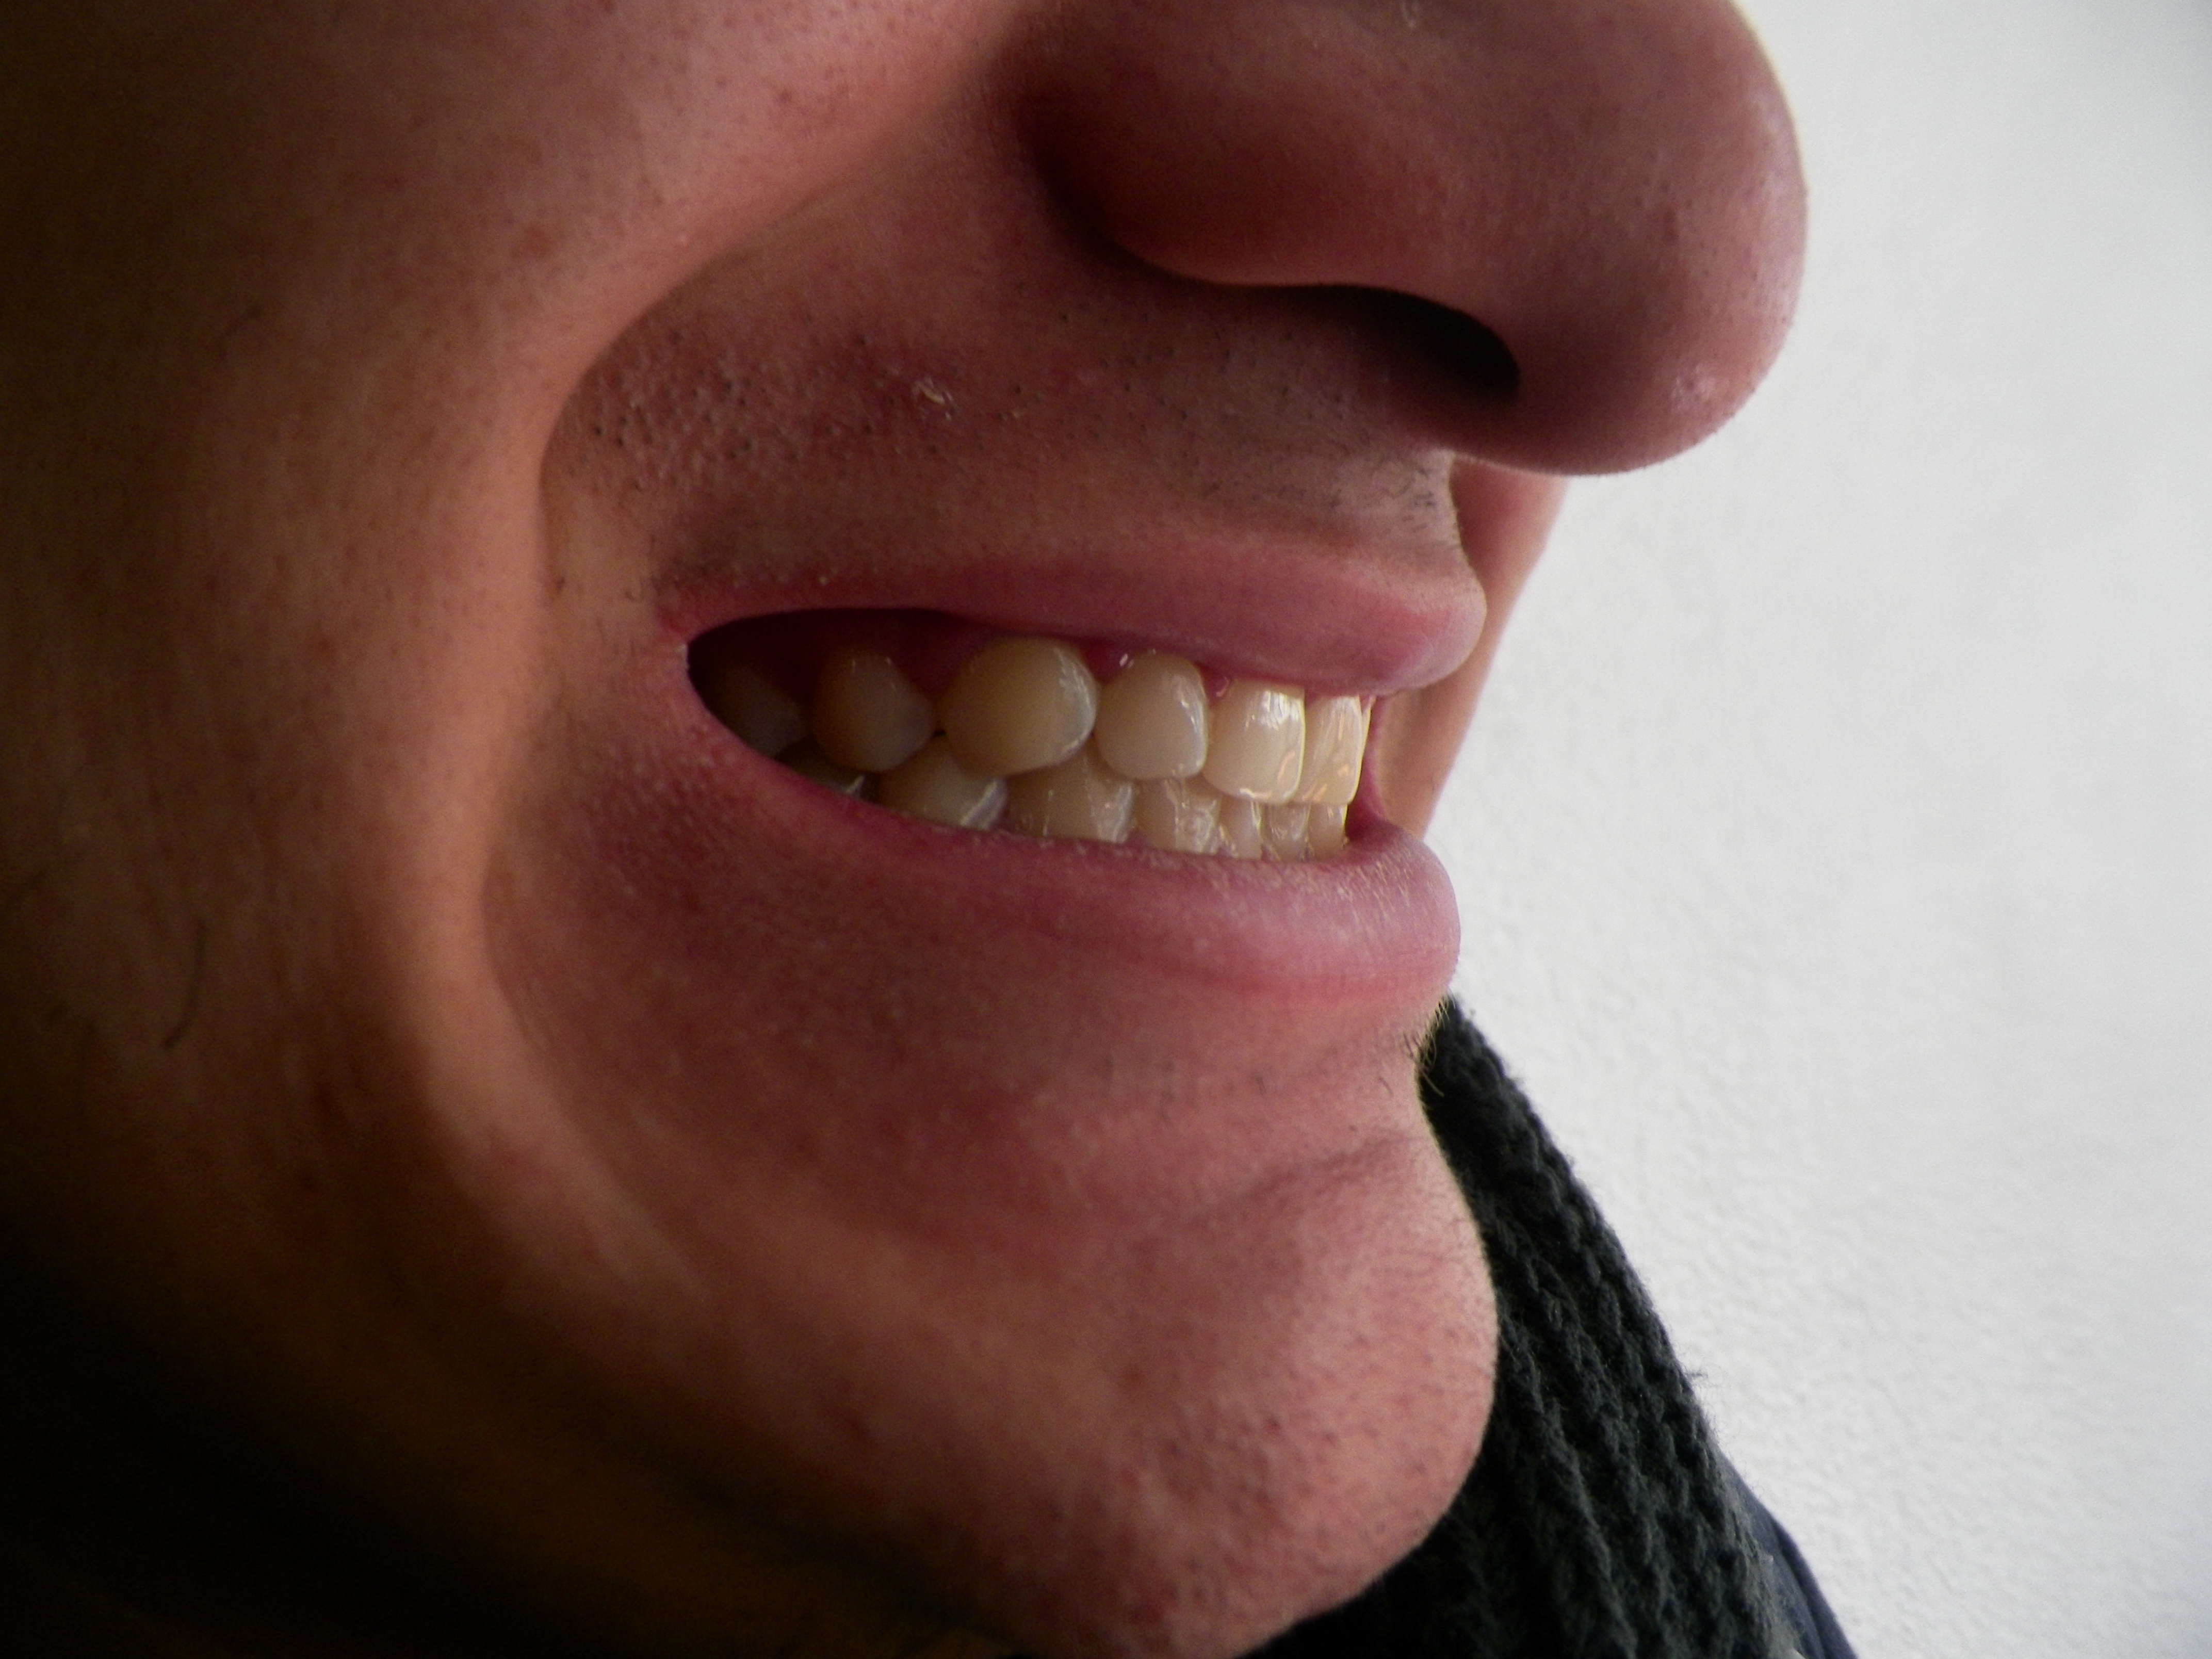dientes: (716, 634, 1374, 861)
